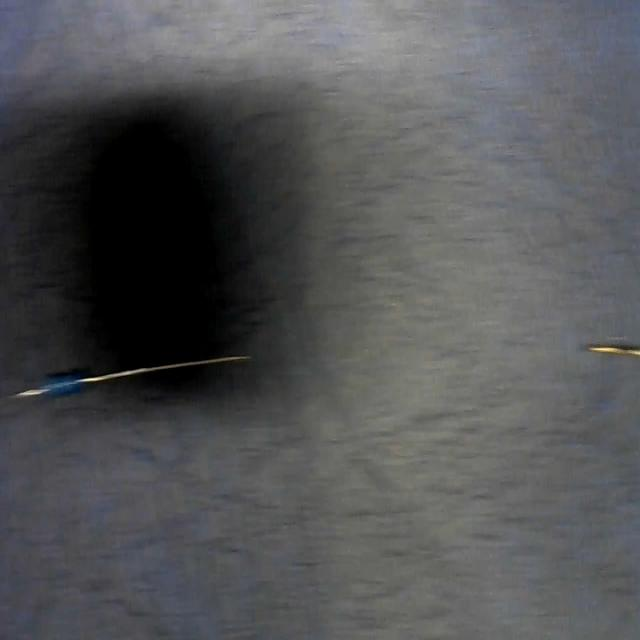resistor: (0, 350, 251, 412)
